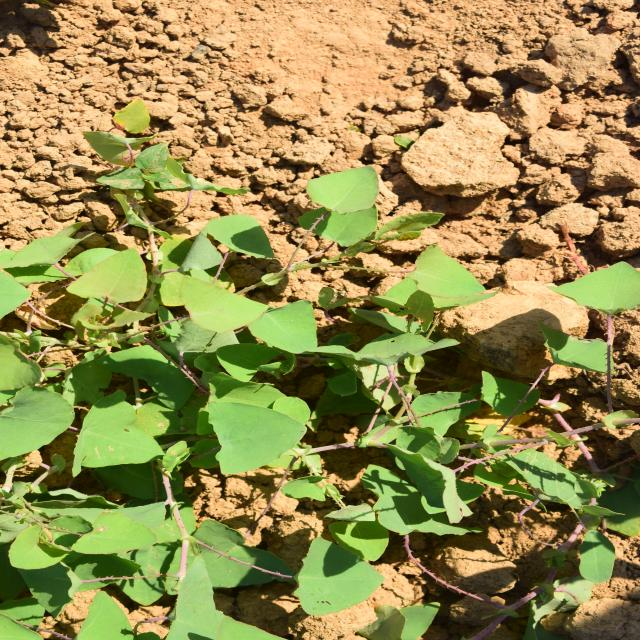Asiatic_Smartweed: (293, 164, 469, 456), (85, 336, 263, 592), (0, 81, 121, 376), (165, 82, 302, 324)
